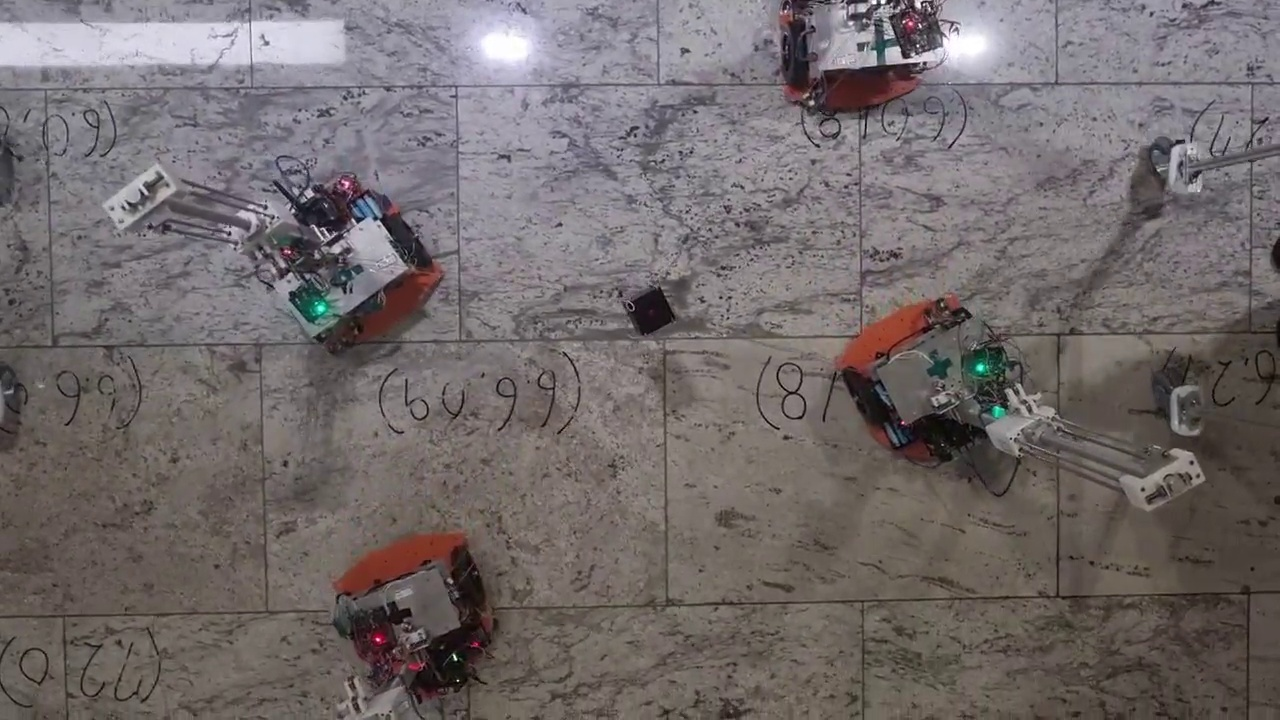e0: (623, 285, 676, 337)
r1: (842, 306, 993, 428)
r2: (779, 2, 935, 88)
r3: (294, 212, 432, 343)
r4: (336, 546, 485, 651)
y_+_axis_vector: (665, 334, 1059, 339)
y_-_axis_vector: (262, 339, 664, 344)
